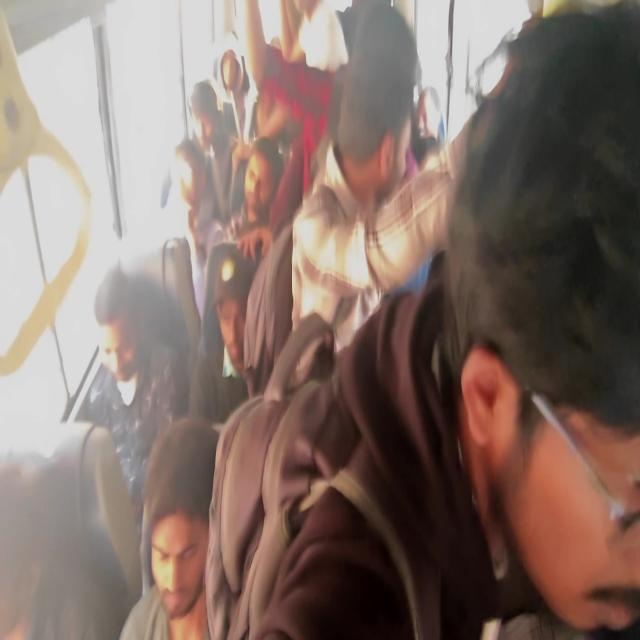person: (470, 75, 640, 573), (91, 280, 179, 486), (0, 434, 95, 607), (338, 41, 400, 256), (148, 476, 226, 640), (244, 142, 296, 230), (165, 143, 208, 233), (336, 1, 381, 85), (189, 82, 237, 158), (207, 259, 239, 335), (415, 92, 453, 153), (222, 38, 256, 98)
